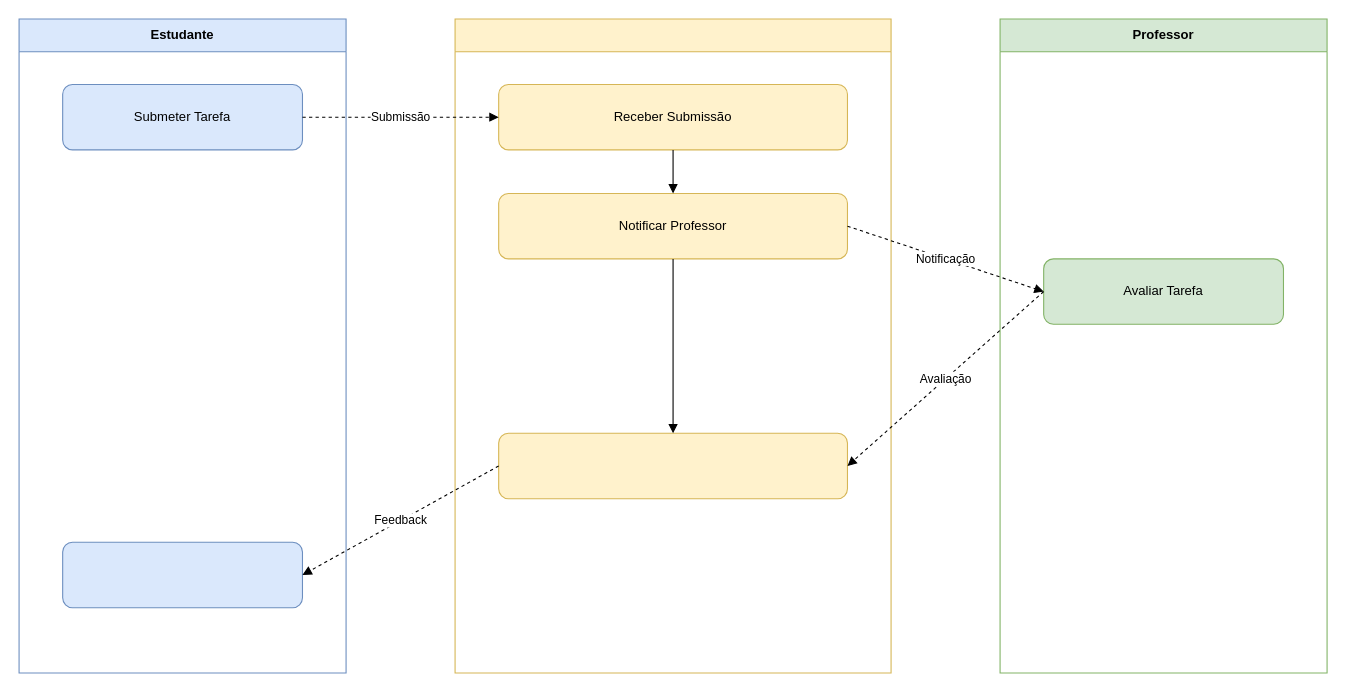
Some shapes in this 1346 by 692 pixel diagram are drawn without their labels. Here are the shapes that lost their labels. From the top down, the box of each, then its label:
(454, 18, 891, 673): Sistema EaDuck
(498, 432, 847, 499): Notificar Estudante
(62, 541, 302, 608): Revisar Feedback
